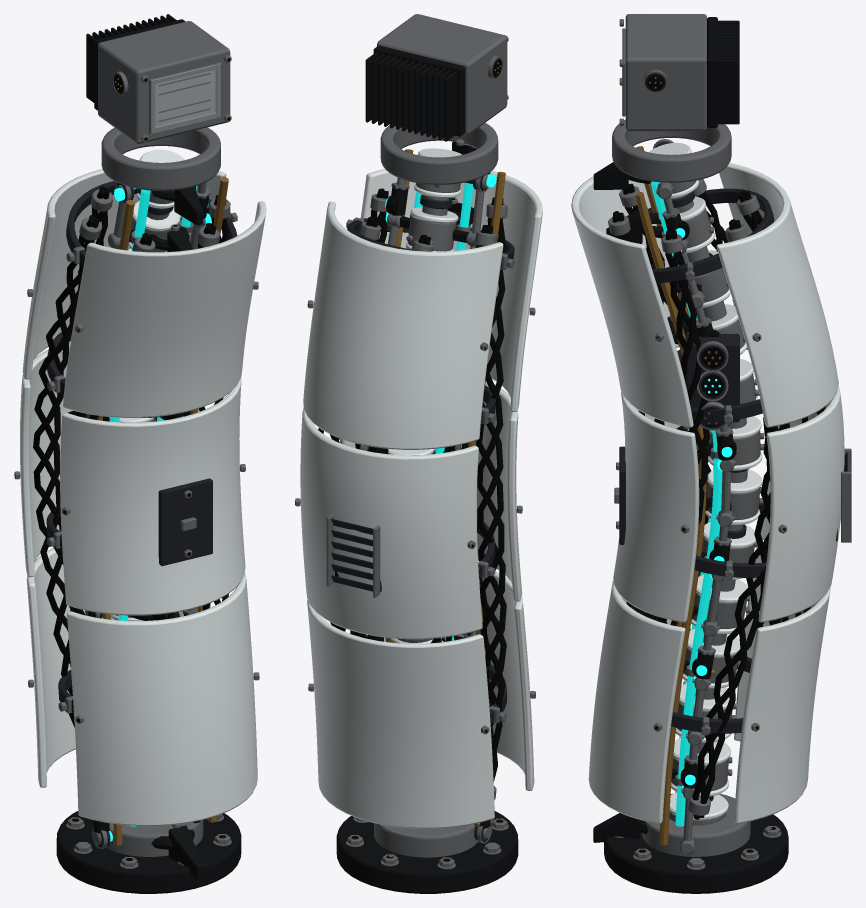
Rendered from cybernetic_module.glb.
3 views of the same model, side by side, from view 1: azimuth 30°, elevation 25°; view 2: azimuth 150°, elevation 25°; view 3: azimuth 270°, elevation 25° (orthographic).
Visible parts, largest first — view 1: Dermal_Shell_R, Memory_Coprocessor, Dermal_Shell_L, Spinal_Interface, Muscle_Layer, Neural_Conductor; view 2: Dermal_Shell_L, Memory_Coprocessor, Dermal_Shell_R, Spinal_Interface, Muscle_Layer, Neural_Conductor; view 3: Dermal_Shell_L, Dermal_Shell_R, Spinal_Interface, Muscle_Layer, Memory_Coprocessor, Neural_Conductor.
Part boxes in pixels (box(x1,y1,x2,y2)): Dermal_Shell_R: box(60, 201, 266, 826); Memory_Coprocessor: box(86, 14, 231, 190); Dermal_Shell_L: box(14, 169, 226, 787); Spinal_Interface: box(56, 149, 241, 893); Muscle_Layer: box(33, 177, 237, 845); Neural_Conductor: box(109, 186, 211, 841); Dermal_Shell_L: box(295, 201, 503, 828); Memory_Coprocessor: box(365, 14, 508, 184); Dermal_Shell_R: box(340, 169, 542, 790); Spinal_Interface: box(336, 139, 518, 893); Muscle_Layer: box(318, 149, 514, 822); Neural_Conductor: box(385, 174, 496, 641); Dermal_Shell_L: box(716, 163, 851, 823); Dermal_Shell_R: box(571, 176, 699, 823); Spinal_Interface: box(593, 139, 788, 893); Muscle_Layer: box(608, 146, 825, 845); Memory_Coprocessor: box(612, 14, 739, 182); Neural_Conductor: box(651, 181, 722, 826).
Size of the model in its own units: 0.3889 by 1.67 by 0.5166.
